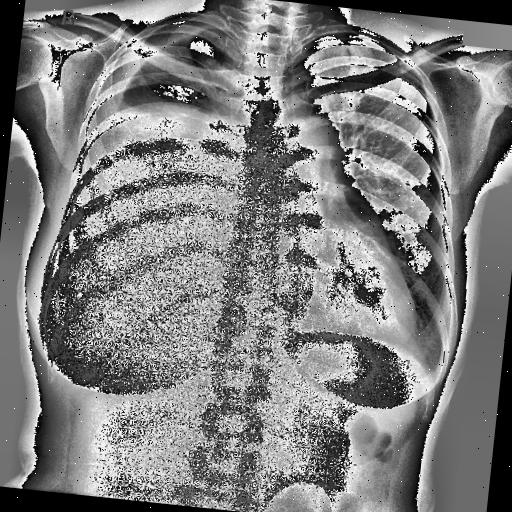0- Aortic enlargement: (278, 112, 346, 166), (284, 115, 346, 164)
10- Pleural effusion: (42, 8, 256, 324), (56, 2, 259, 302), (53, 2, 245, 313)
